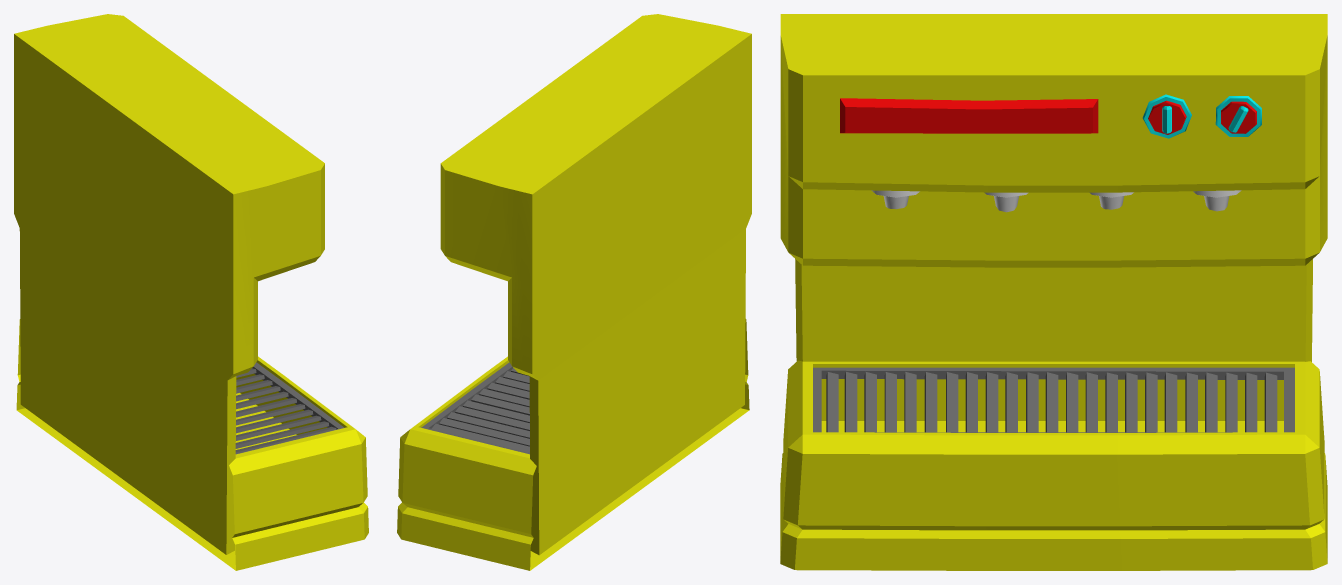
File: Bar_DrinkMachine.fbx
3 renders of one model, left to right at view 1: azimuth 30°, elevation 25°; view 2: azimuth 150°, elevation 25°; view 3: azimuth 270°, elevation 25°, orthographic. The views are drawn at different scales.
Parts seen in each view (by area): view 1: Bar_DrinkMachine; view 2: Bar_DrinkMachine; view 3: Bar_DrinkMachine.
Part boxes in pixels (x1,y1,x2,y2): Bar_DrinkMachine: (14, 14, 368, 570); Bar_DrinkMachine: (397, 14, 751, 570); Bar_DrinkMachine: (780, 14, 1327, 570).
Size of the model in its own units: 42.31 by 107 by 113.
